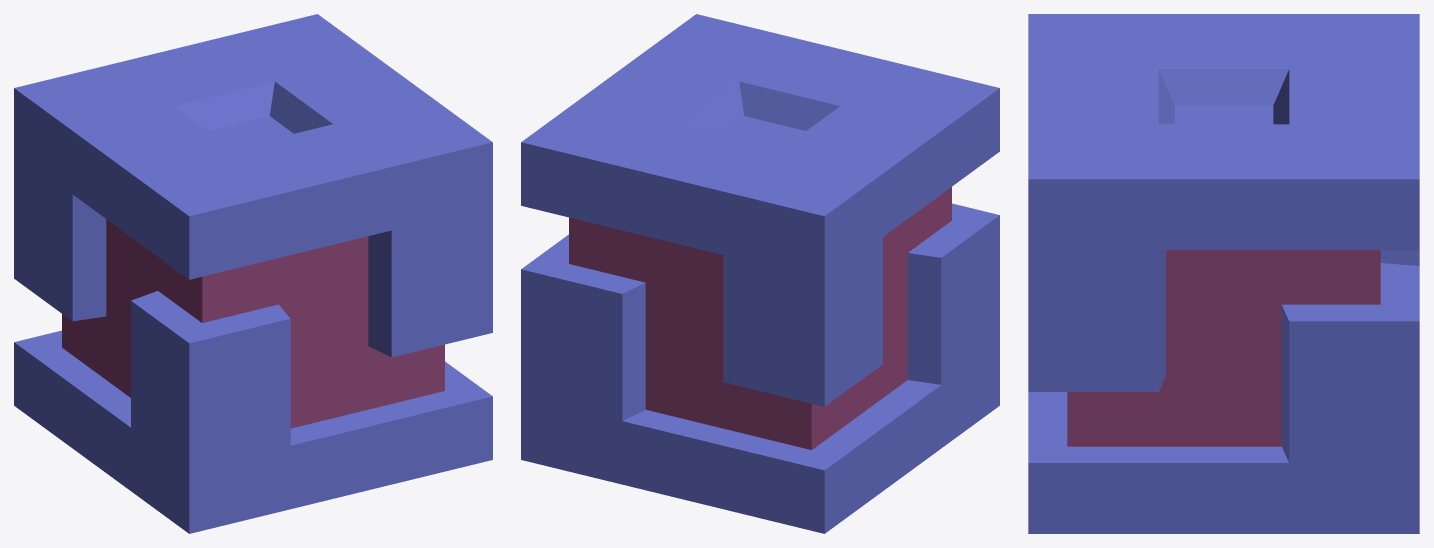
The model's file is SM_cubic_01.FBX.
3 views of the same model, side by side, from view 1: azimuth 30°, elevation 25°; view 2: azimuth 150°, elevation 25°; view 3: azimuth 270°, elevation 25° (orthographic). The views are drawn at different scales.
Visible parts, largest first — view 1: SM_cubic_01; view 2: SM_cubic_01; view 3: SM_cubic_01.
Boxes of the visible parts, bbox=[...] form: SM_cubic_01: bbox=[14, 14, 492, 533]; SM_cubic_01: bbox=[521, 14, 999, 533]; SM_cubic_01: bbox=[1028, 14, 1419, 533].
Size of the model in its own units: 300 by 300 by 300.
